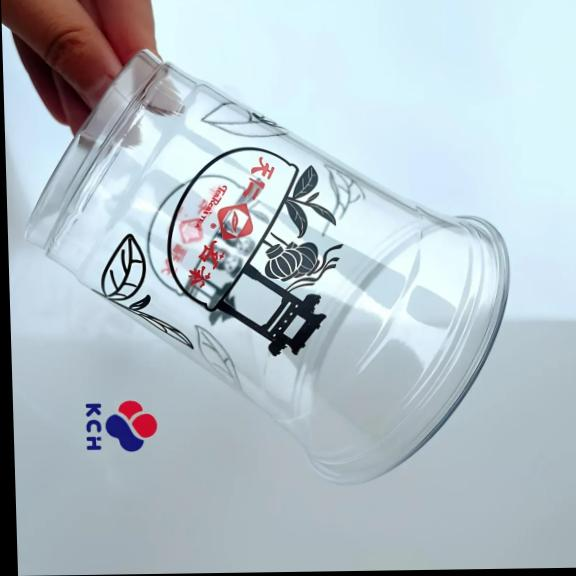Plastik: (26, 52, 508, 483)
